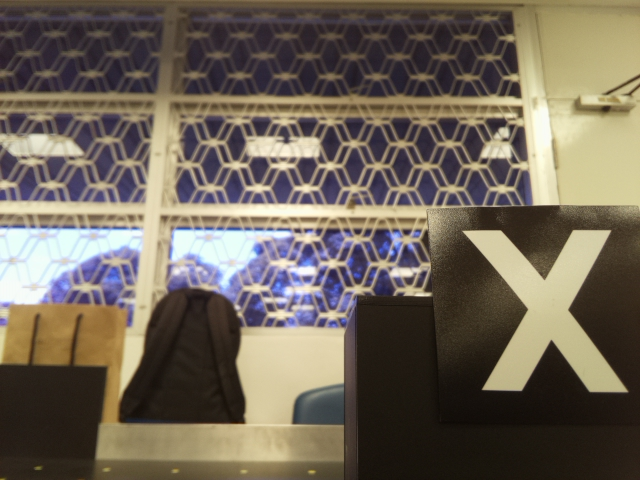x: (457, 222, 637, 403)
